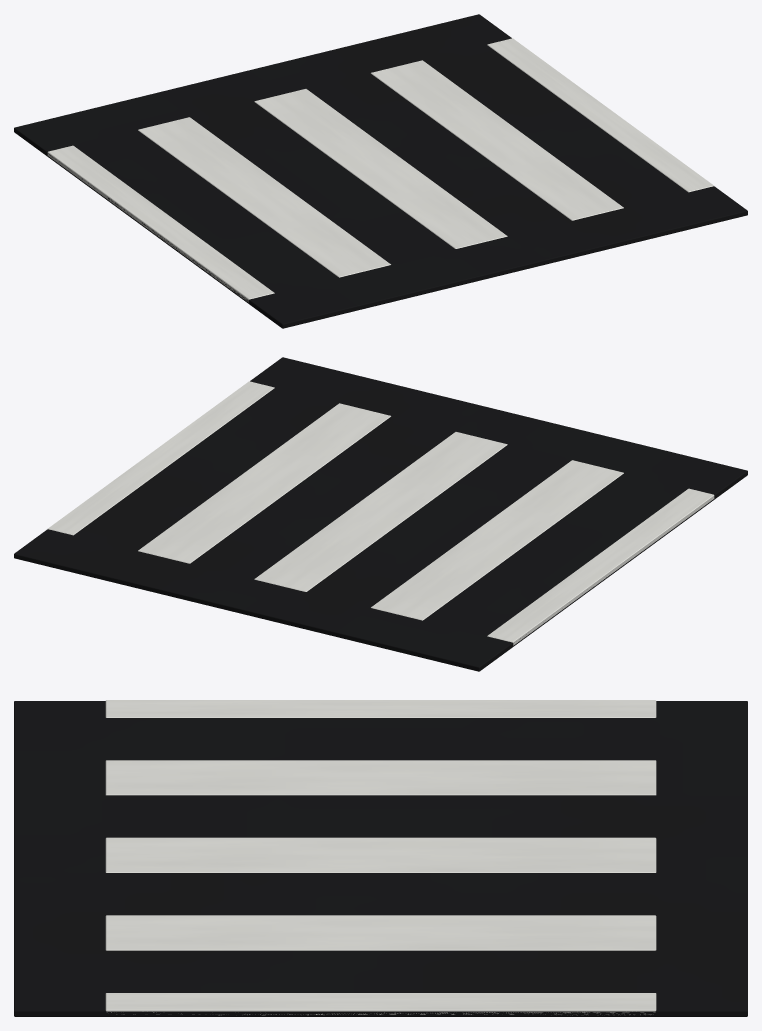
File: road_crosswalk.glb
3 renders of one model, top to bottom at view 1: azimuth 30°, elevation 25°; view 2: azimuth 150°, elevation 25°; view 3: azimuth 270°, elevation 25°, orthographic. The views are drawn at different scales.
Visible parts, largest first — view 1: road_crosswalk_asphalt, road_crosswalk_bar3, road_crosswalk_bar1, road_crosswalk_bar2, road_crosswalk_bar0, road_crosswalk_bar4; view 2: road_crosswalk_asphalt, road_crosswalk_bar3, road_crosswalk_bar1, road_crosswalk_bar2, road_crosswalk_bar0, road_crosswalk_bar4; view 3: road_crosswalk_asphalt, road_crosswalk_bar2, road_crosswalk_bar1, road_crosswalk_bar3, road_crosswalk_bar4, road_crosswalk_bar0.
Boxes of the visible parts, x1=… form: road_crosswalk_asphalt: x1=14, y1=14, x2=747, y2=328; road_crosswalk_bar3: x1=371, y1=60, x2=623, y2=220; road_crosswalk_bar1: x1=138, y1=117, x2=390, y2=277; road_crosswalk_bar2: x1=254, y1=89, x2=507, y2=248; road_crosswalk_bar0: x1=47, y1=145, x2=274, y2=302; road_crosswalk_bar4: x1=487, y1=38, x2=713, y2=192; road_crosswalk_asphalt: x1=14, y1=357, x2=747, y2=671; road_crosswalk_bar3: x1=138, y1=403, x2=390, y2=563; road_crosswalk_bar1: x1=371, y1=460, x2=623, y2=620; road_crosswalk_bar2: x1=254, y1=432, x2=507, y2=591; road_crosswalk_bar0: x1=487, y1=488, x2=714, y2=645; road_crosswalk_bar4: x1=48, y1=381, x2=274, y2=535; road_crosswalk_asphalt: x1=14, y1=701, x2=747, y2=1016; road_crosswalk_bar2: x1=105, y1=837, x2=656, y2=872; road_crosswalk_bar1: x1=105, y1=760, x2=656, y2=795; road_crosswalk_bar3: x1=105, y1=915, x2=656, y2=950; road_crosswalk_bar4: x1=105, y1=993, x2=656, y2=1015; road_crosswalk_bar0: x1=105, y1=700, x2=656, y2=717.
Size of the model in its own units: 4 by 0.044 by 4.
2 materials, 2 textured.
